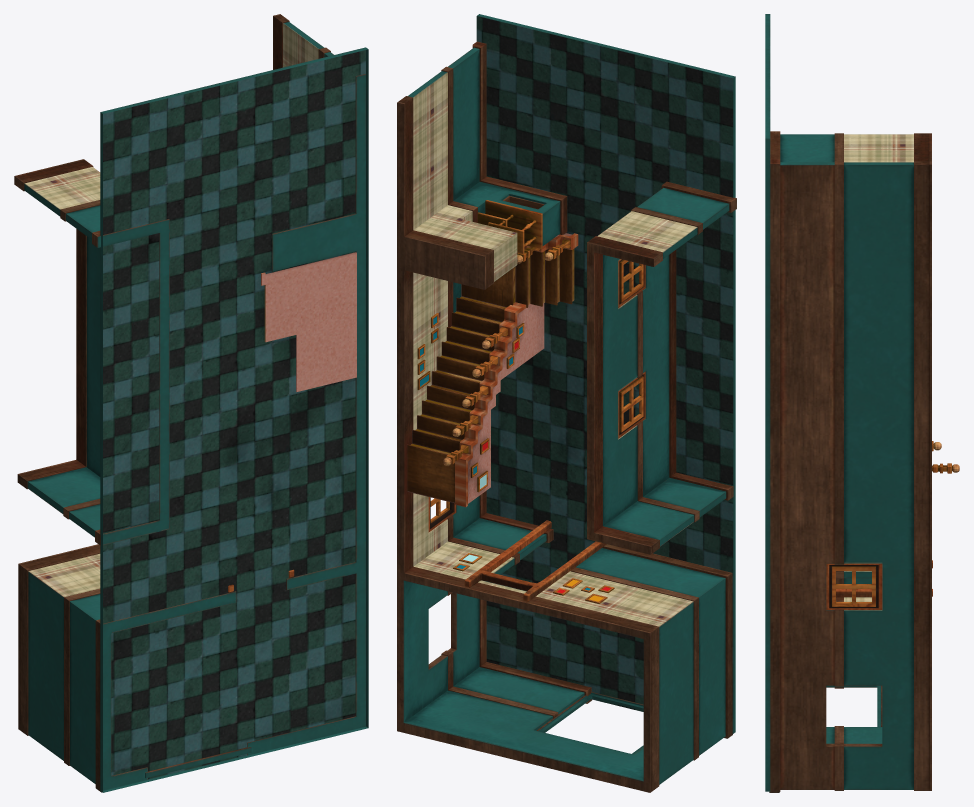
The model's file is room.dae.
3 renders of one model, left to right at view 1: azimuth 30°, elevation 25°; view 2: azimuth 150°, elevation 25°; view 3: azimuth 270°, elevation 25°, orthographic. The views are drawn at different scales.
Parts seen in each view (by area): view 1: room (2); view 2: room (2); view 3: room (2).
Part boxes in pixels (x1,y1,x2,y2): room (2): [14, 14, 368, 792]; room (2): [397, 14, 736, 792]; room (2): [765, 14, 959, 792].
Size of the model in its own units: 1.65 by 1.08 by 4.
